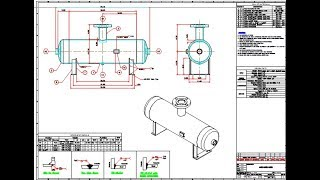nozzle: (167, 91, 199, 116), (89, 18, 118, 44), (187, 18, 212, 42)
